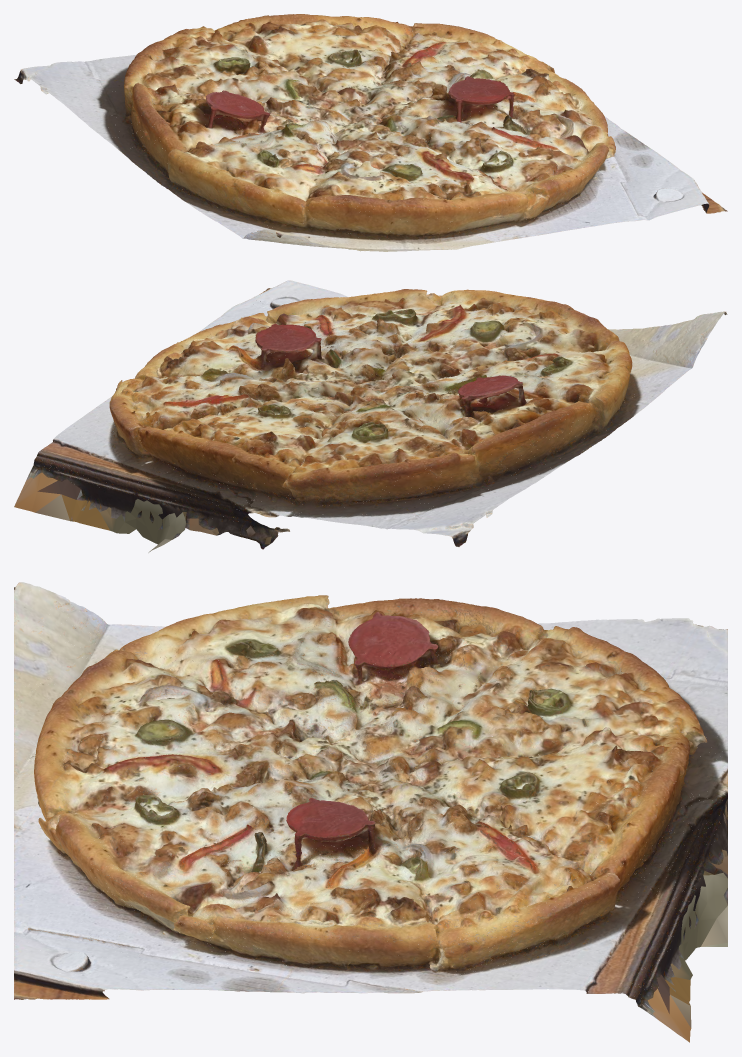
The model's file is mcart_compressed.glb.
The picture shows the model from 3 angles, top to bottom: view 1: azimuth 30°, elevation 25°; view 2: azimuth 150°, elevation 25°; view 3: azimuth 270°, elevation 25°; orthographic projection. The views are drawn at different scales.
Parts seen in each view (by area): view 1: Object_8, Object_9, Object_10, Object_2, Object_7, Object_6, Object_3, Object_5, Object_4, Object_11, Object_12; view 2: Object_2, Object_4, Object_3, Object_5, Object_8, Object_6, Object_7, Object_10, Object_9, Object_11, Object_12; view 3: Object_5, Object_2, Object_9, Object_10, Object_6, Object_4, Object_7, Object_3, Object_11, Object_8, Object_12.
Part boxes in pixels (x1,y1,x2,y2): Object_8: (101, 92, 460, 249); Object_9: (113, 69, 654, 251); Object_10: (195, 69, 727, 248); Object_2: (79, 14, 553, 168); Object_7: (149, 78, 656, 220); Object_6: (238, 99, 603, 203); Object_3: (91, 14, 503, 102); Object_5: (274, 19, 708, 220); Object_4: (14, 16, 516, 136); Object_11: (186, 50, 581, 137); Object_12: (359, 51, 560, 123); Object_2: (57, 376, 591, 515); Object_4: (33, 386, 542, 546); Object_3: (110, 377, 512, 528); Object_5: (14, 280, 627, 552); Object_8: (447, 321, 703, 474); Object_6: (298, 290, 630, 398); Object_7: (190, 290, 599, 439); Object_10: (242, 280, 727, 424); Object_9: (96, 289, 726, 471); Object_11: (127, 325, 508, 432); Object_12: (127, 326, 357, 404); Object_5: (14, 633, 727, 1042); Object_2: (359, 606, 689, 990); Object_9: (14, 582, 493, 992); Object_10: (14, 582, 493, 999); Object_6: (73, 623, 408, 893); Object_4: (464, 618, 727, 1006); Object_7: (44, 602, 452, 965); Object_3: (408, 609, 727, 919); Object_11: (293, 625, 493, 926); Object_8: (30, 595, 493, 747); Object_12: (293, 786, 493, 960).
Bounding box in the file's own units: 0.3192 × 0.0889 × 0.3236.
1 material, 1 textured.
